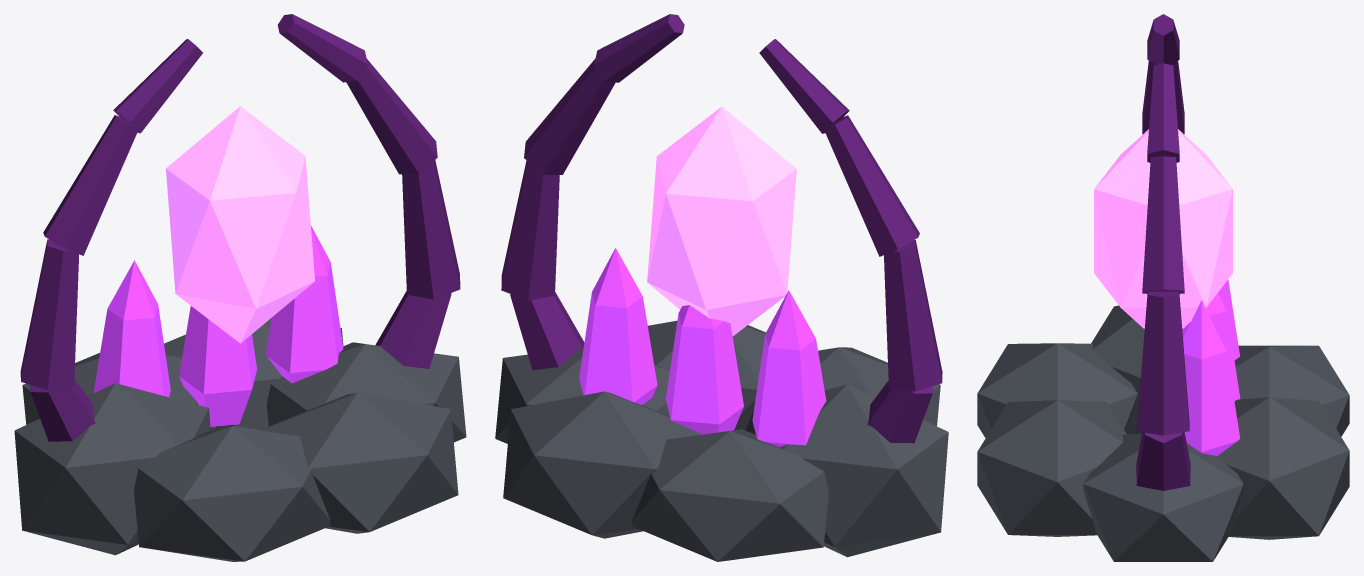
Rendered from dark_crystal_node.fbx.
3 renders of one model, left to right at view 1: azimuth 30°, elevation 25°; view 2: azimuth 150°, elevation 25°; view 3: azimuth 270°, elevation 25°, orthographic. The views are drawn at different scales.
Parts seen in each view (by area): view 1: Dark_Bedrock.002, Dark_Accent.002, Dark_Glow.002, Dark_Crystal.002; view 2: Dark_Bedrock.002, Dark_Accent.002, Dark_Glow.002, Dark_Crystal.002; view 3: Dark_Bedrock.002, Dark_Accent.002, Dark_Glow.002, Dark_Crystal.002.
Part boxes in pixels (bbox=[...]): Dark_Bedrock.002: bbox=[14, 318, 466, 561]; Dark_Accent.002: bbox=[20, 14, 460, 441]; Dark_Glow.002: bbox=[166, 106, 314, 343]; Dark_Crystal.002: bbox=[93, 226, 343, 426]; Dark_Bedrock.002: bbox=[495, 320, 948, 561]; Dark_Accent.002: bbox=[501, 14, 942, 443]; Dark_Glow.002: bbox=[647, 106, 796, 336]; Dark_Crystal.002: bbox=[579, 248, 826, 447]; Dark_Bedrock.002: bbox=[977, 305, 1349, 561]; Dark_Accent.002: bbox=[1136, 14, 1190, 490]; Dark_Glow.002: bbox=[1094, 129, 1232, 328]; Dark_Crystal.002: bbox=[1182, 279, 1240, 455].
Size of the model in its own units: 193 by 210 by 146.
